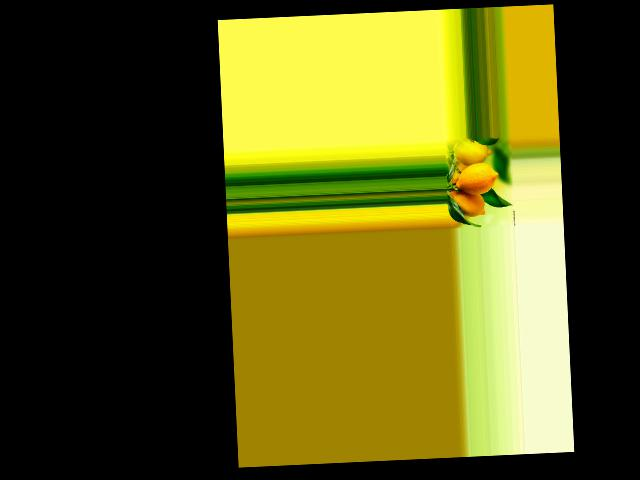lemon: (451, 140, 494, 165)
